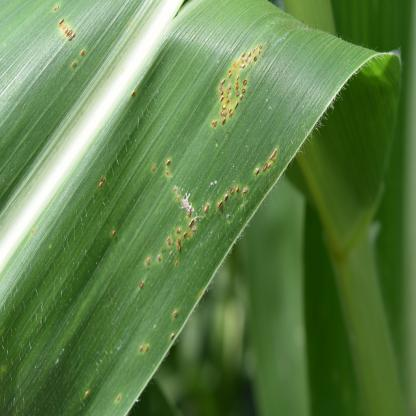Corn rust leaf: (0, 5, 401, 415)
